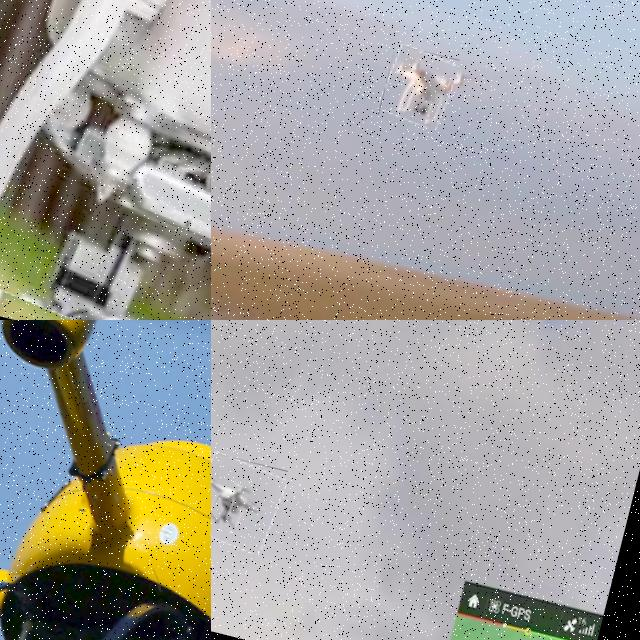drone: (0, 0, 211, 320), (0, 320, 211, 640), (211, 450, 287, 554), (377, 44, 459, 130)
